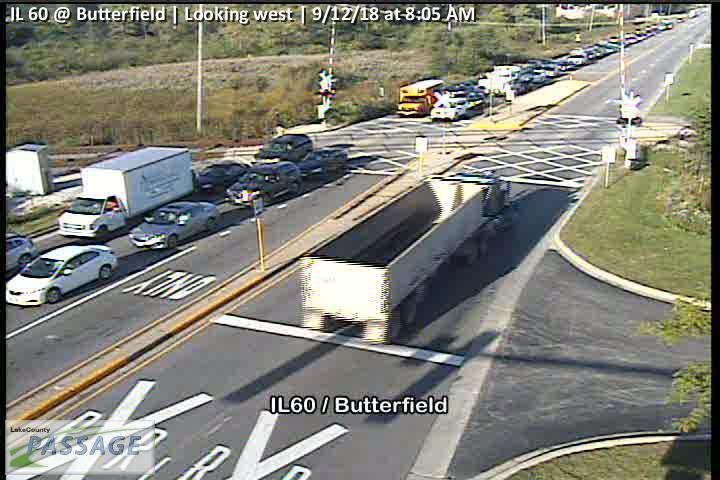Bus: (398, 78, 446, 116)
SUV: (227, 160, 301, 209), (298, 147, 349, 181), (257, 134, 313, 161)
Sedan: (5, 243, 118, 308), (127, 201, 223, 250), (200, 157, 253, 191)
Truck: (298, 175, 513, 348), (58, 146, 193, 239)
